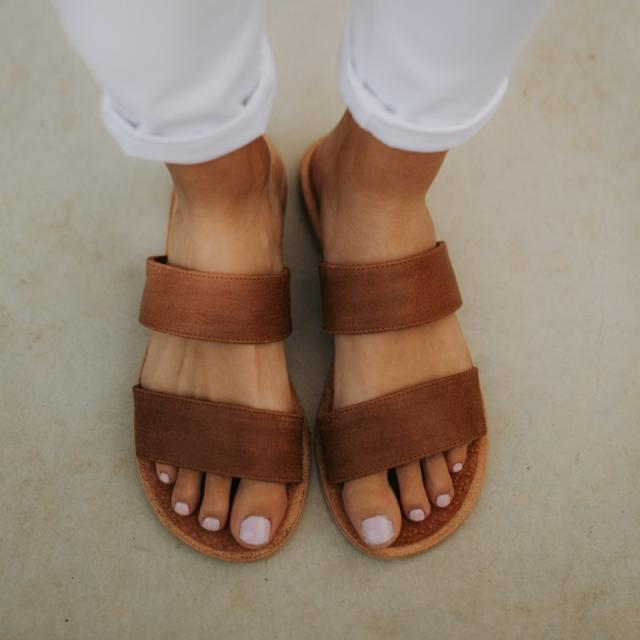Sandals: (293, 101, 493, 558), (116, 131, 314, 560)
